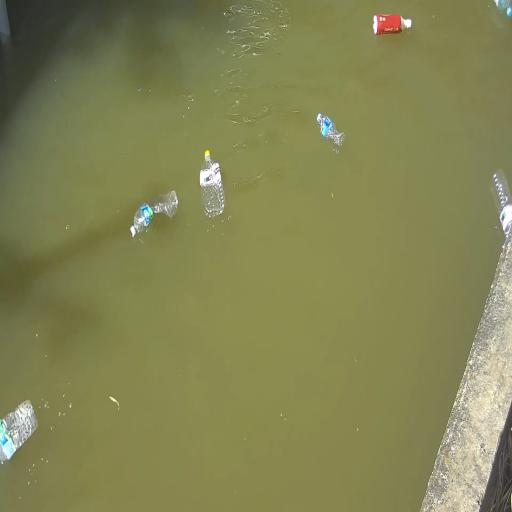plastic: (0, 401, 38, 463), (131, 191, 178, 237), (199, 150, 226, 219), (492, 171, 511, 237), (317, 113, 344, 146), (374, 14, 411, 35)
